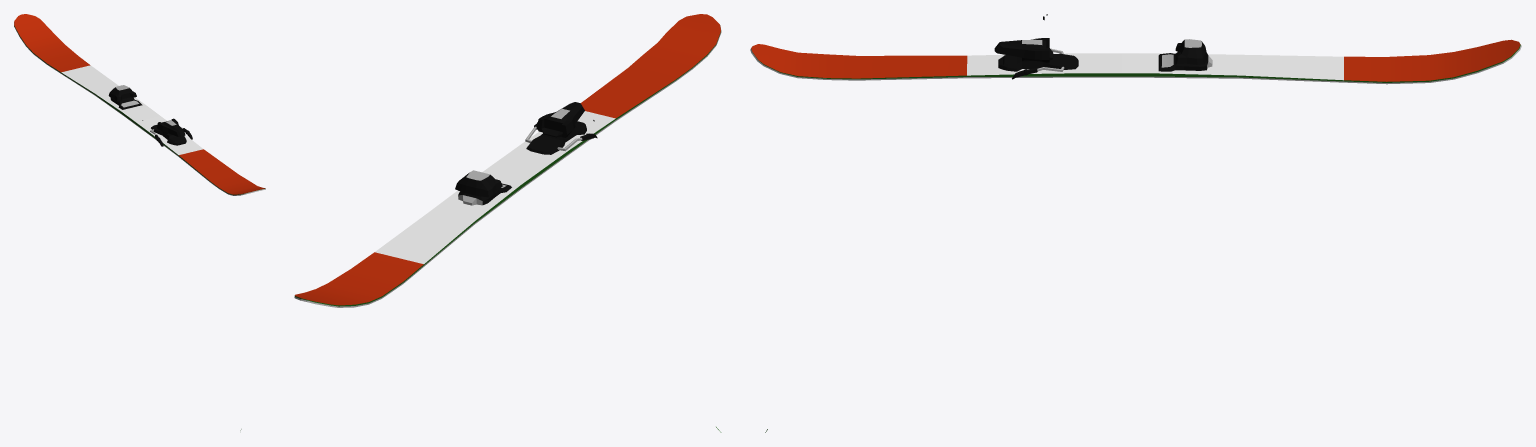
Rendered from ski_izq.obj.
The picture shows the model from 3 angles, left to right: view 1: azimuth 30°, elevation 25°; view 2: azimuth 150°, elevation 25°; view 3: azimuth 270°, elevation 25°; orthographic projection. The views are drawn at different scales.
Parts seen in each view (by area): view 1: Ski_R_Orange_0.005; view 2: Ski_R_Orange_0.005; view 3: Ski_R_Orange_0.005.
Part boxes in pixels (x1=…): Ski_R_Orange_0.005: x1=14, y1=14, x2=265, y2=430; Ski_R_Orange_0.005: x1=294, y1=14, x2=721, y2=432; Ski_R_Orange_0.005: x1=750, y1=14, x2=1521, y2=432.
Size of the model in its own units: 0.3289 by 1.91 by 3.26.
